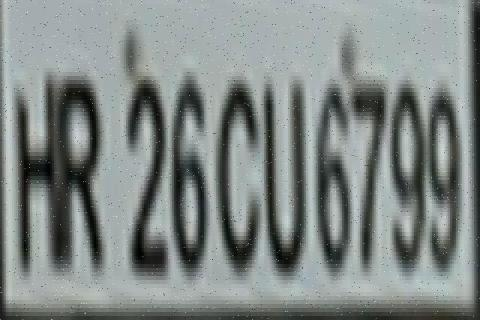LicensePlate: (14, 60, 470, 316)
